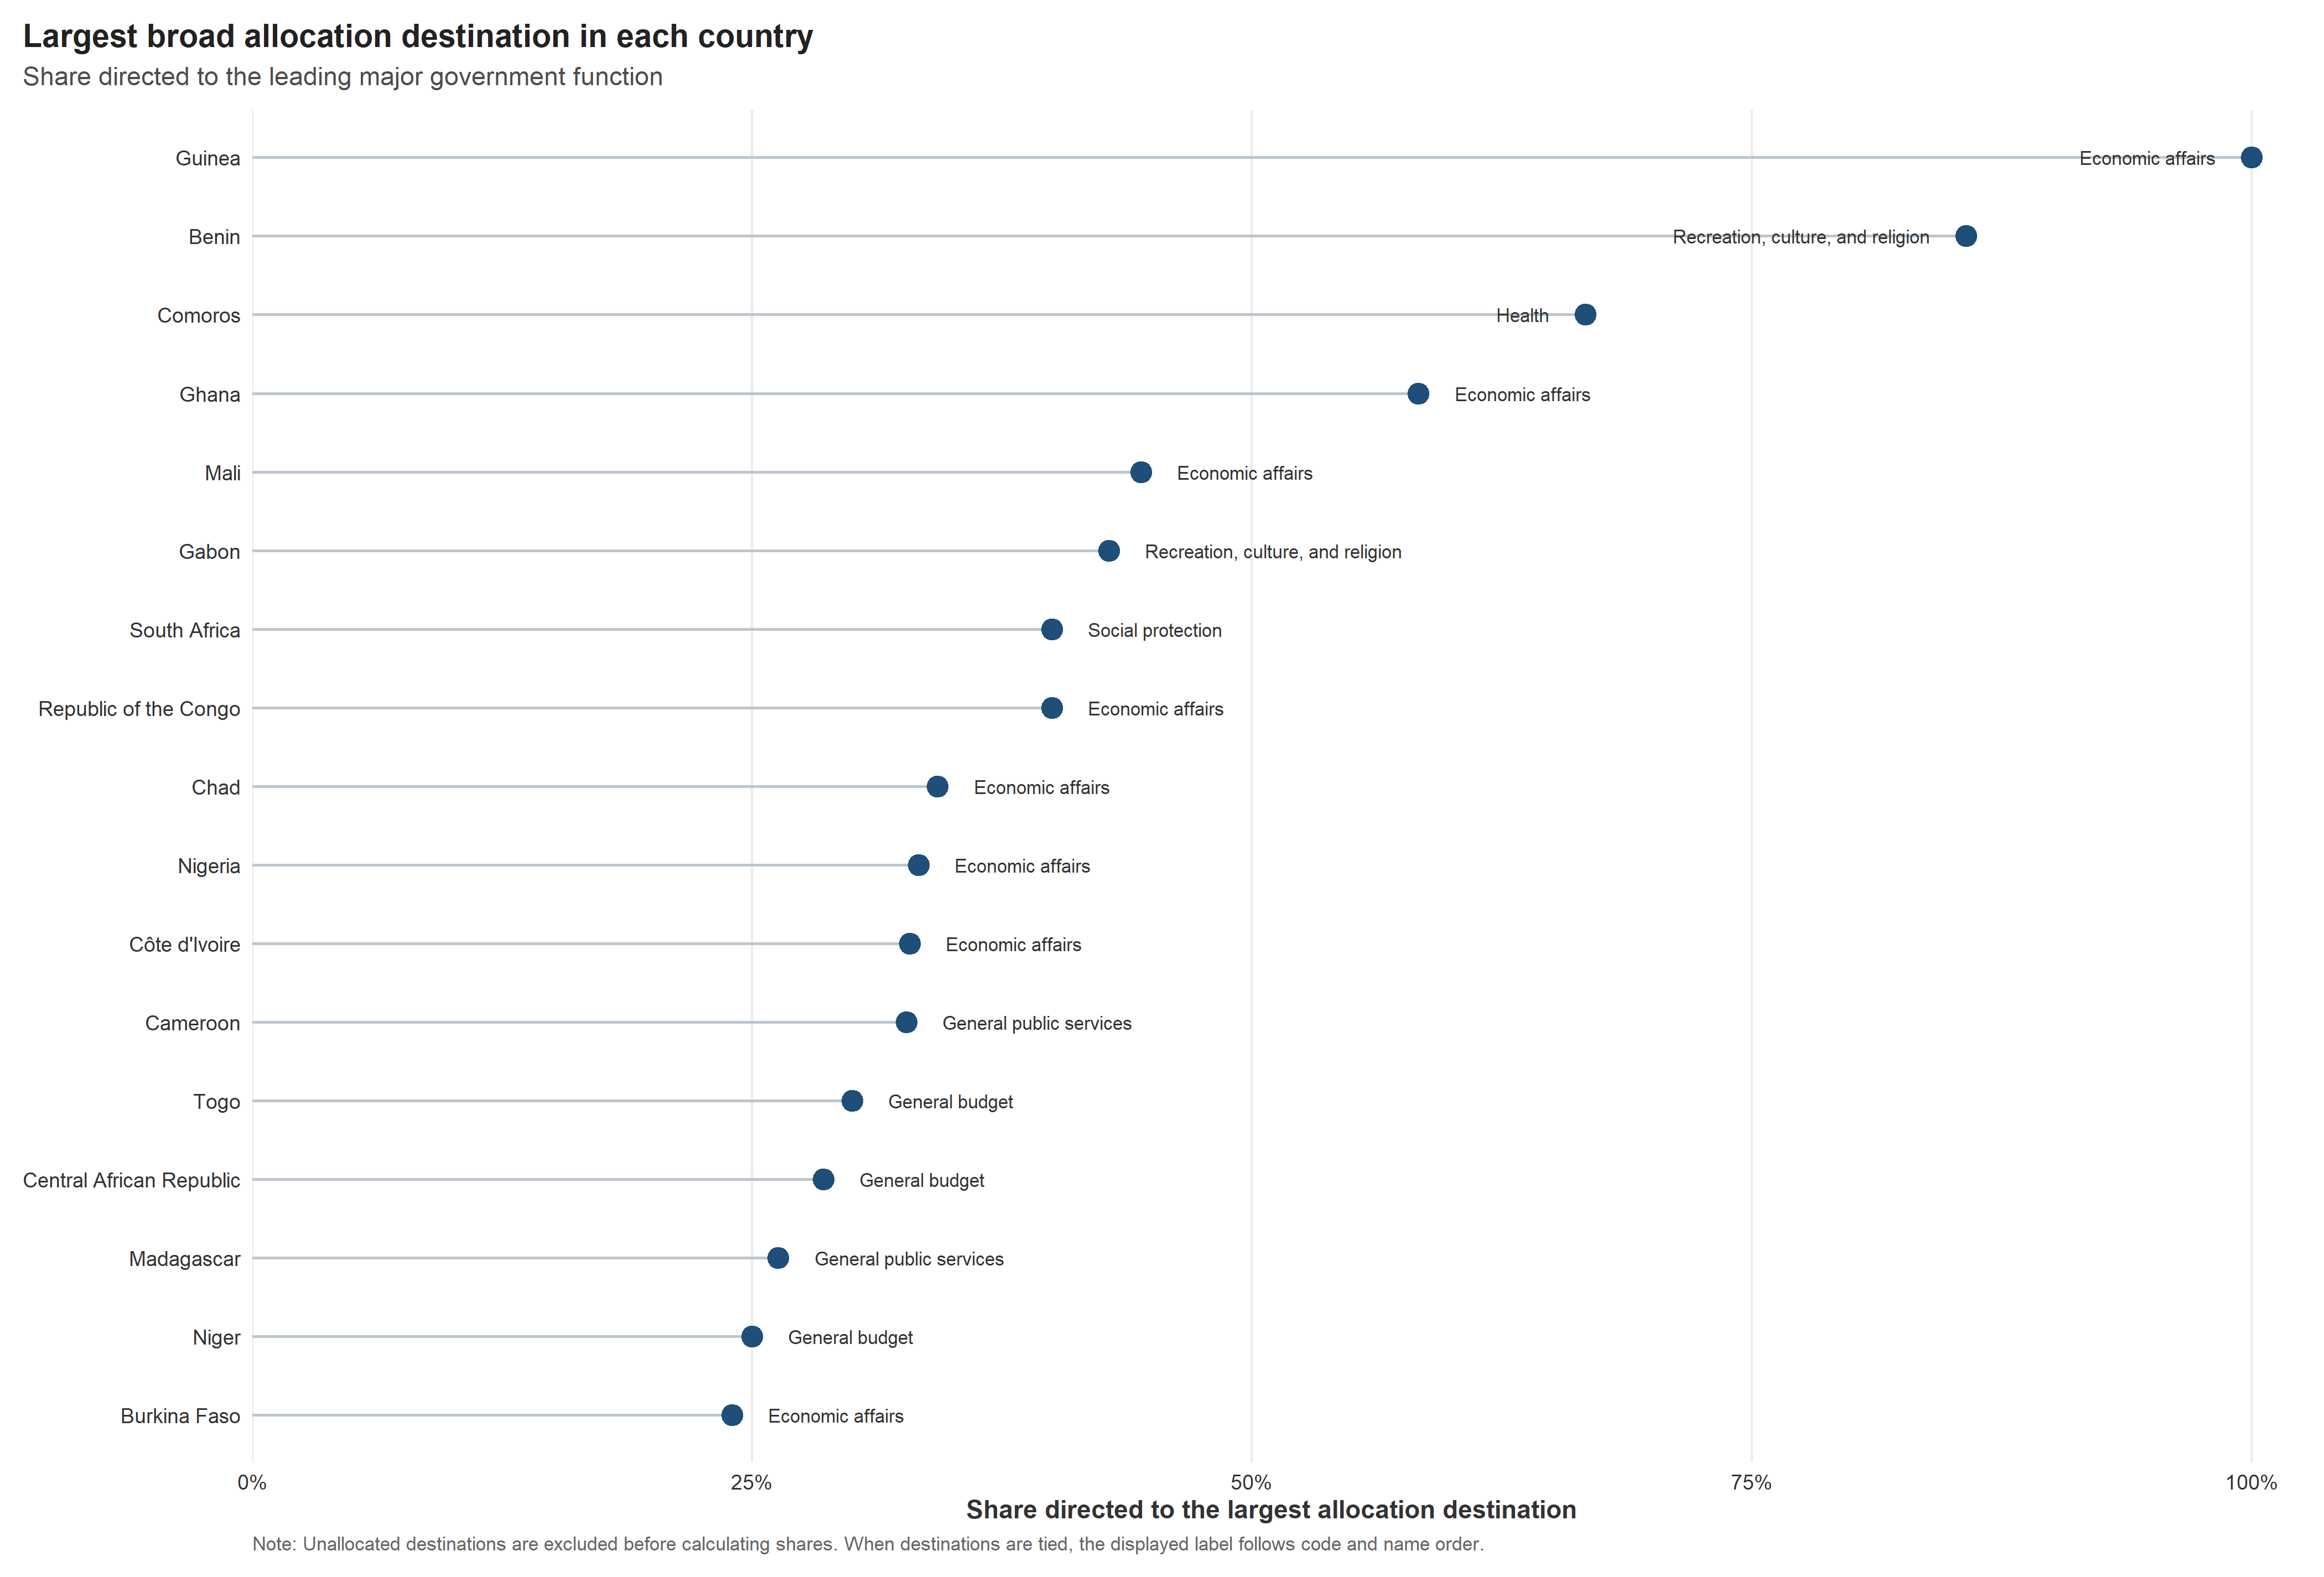

Layout of this report page (visuals, bound fields, positions):
{"tool":"powerbi","page":{"name":"prevalance earmark","canvas":[1920,1080],"ordinal":3},"visuals":[{"type":"clusteredBarChart","fields":{"Category":["country.country_label"],"Y":["Sum(02_country_summary.allocation_incidence_E_D)"]},"box":[0,0,1920,1080],"z":0}]}

Visuals, with their boxes on the page's 1920x1080 design canvas (x1, y1, x2, y2). These are canvas units, not pixel positions in the 2324x1577 screenshot, which may show the page scaled, cropped or inside an application window:
clusteredBarChart - country.country_label x Sum(02_country_summary.allocation_incidence_E_D): <bbox>0, 0, 1920, 1080</bbox>
